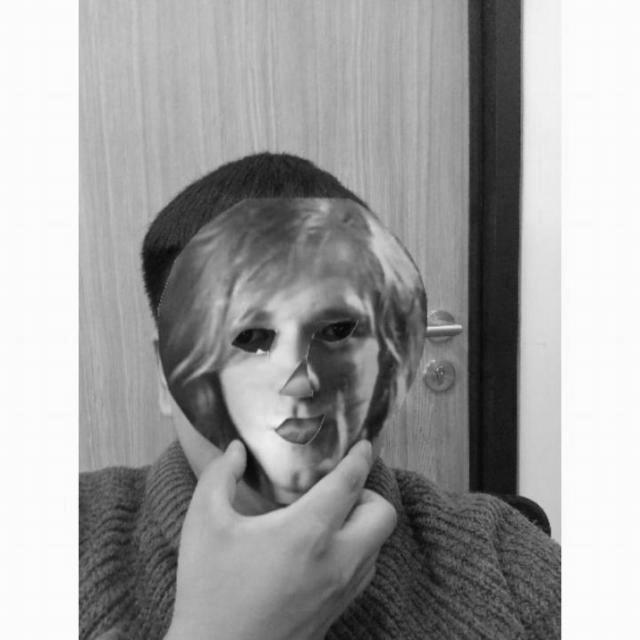fake: (154, 196, 430, 502)
